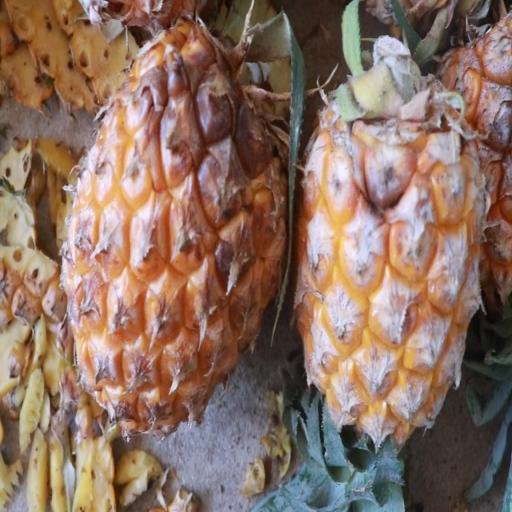Pineapple - v8 v1: (56, 0, 296, 445), (289, 26, 491, 500)
